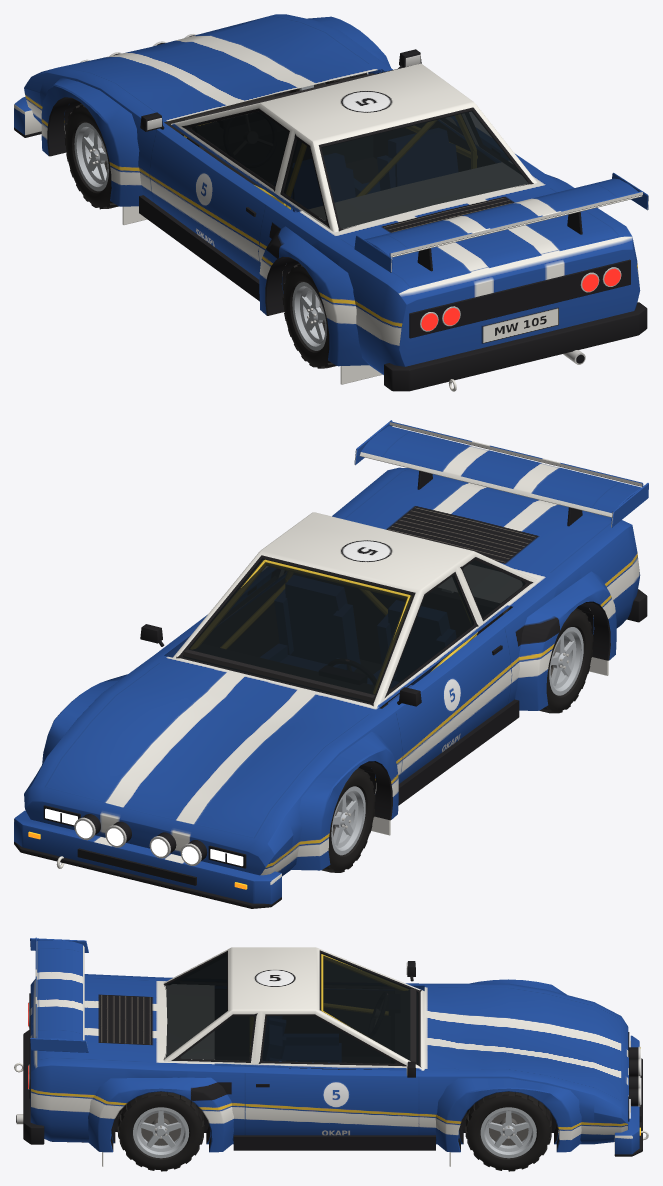
File: CAR-019_Export.fbx
3 renders of one model, top to bottom at view 1: azimuth 30°, elevation 25°; view 2: azimuth 150°, elevation 25°; view 3: azimuth 270°, elevation 25°, orthographic. The views are drawn at different scales.
Parts seen in each view (by area): view 1: CAR-019_Body, CAR-019_Glass, CAR-019_Spoiler, CAR-019_Bumper_Rear, CAR-019_Lights, CAR-019_Trim, CAR-019_Wheel_RL_Tire, CAR-019_Wheel_FL_Tire, CAR-019_Wheel_FL_Rim, CAR-019_Wheel_RL_Rim, CAR-019_Interior, CAR-019_MudFlaps (+2 smaller); view 2: CAR-019_Body, CAR-019_Glass, CAR-019_Spoiler, CAR-019_Bumper_Front, CAR-019_Trim, CAR-019_Lights, CAR-019_Interior, CAR-019_Wheel_RL_Tire, CAR-019_Wheel_FL_Tire, CAR-019_Wheel_FL_Rim, CAR-019_Wheel_RL_Rim, CAR-019_Mirrors; view 3: CAR-019_Body, CAR-019_Glass, CAR-019_Spoiler, CAR-019_Trim, CAR-019_Wheel_FR_Tire, CAR-019_Wheel_RR_Tire, CAR-019_Wheel_FR_Rim, CAR-019_Wheel_RR_Rim, CAR-019_Bumper_Front, CAR-019_Lights, CAR-019_Bumper_Rear, CAR-019_Interior.
Boxes of the visible parts, <box> form: CAR-019_Body: <box>24,14,640,374</box>; CAR-019_Glass: <box>191,111,528,228</box>; CAR-019_Spoiler: <box>354,172,648,272</box>; CAR-019_Bumper_Rear: <box>384,302,647,391</box>; CAR-019_Lights: <box>79,34,630,338</box>; CAR-019_Trim: <box>139,195,585,391</box>; CAR-019_Wheel_RL_Tire: <box>282,263,336,368</box>; CAR-019_Wheel_FL_Tire: <box>64,104,118,209</box>; CAR-019_Wheel_FL_Rim: <box>74,122,108,191</box>; CAR-019_Wheel_RL_Rim: <box>292,282,326,350</box>; CAR-019_Interior: <box>176,73,374,212</box>; CAR-019_MudFlaps: <box>122,206,382,384</box>; CAR-019_Body: <box>24,467,640,876</box>; CAR-019_Glass: <box>183,559,524,702</box>; CAR-019_Spoiler: <box>354,420,648,527</box>; CAR-019_Bumper_Front: <box>14,810,281,908</box>; CAR-019_Trim: <box>56,645,519,885</box>; CAR-019_Lights: <box>28,805,247,889</box>; CAR-019_Interior: <box>176,559,503,708</box>; CAR-019_Wheel_RL_Tire: <box>539,608,593,713</box>; CAR-019_Wheel_FL_Tire: <box>322,768,375,872</box>; CAR-019_Wheel_FL_Rim: <box>331,786,365,855</box>; CAR-019_Wheel_RL_Rim: <box>549,627,583,695</box>; CAR-019_Mirrors: <box>140,624,421,706</box>; CAR-019_Body: <box>30,947,628,1152</box>; CAR-019_Glass: <box>166,953,418,1064</box>; CAR-019_Spoiler: <box>30,937,88,1052</box>; CAR-019_Trim: <box>14,1062,648,1150</box>; CAR-019_Wheel_FR_Tire: <box>465,1091,551,1171</box>; CAR-019_Wheel_RR_Tire: <box>117,1091,204,1171</box>; CAR-019_Wheel_FR_Rim: <box>480,1107,536,1158</box>; CAR-019_Wheel_RR_Rim: <box>133,1107,189,1158</box>; CAR-019_Bumper_Front: <box>614,1035,642,1156</box>; CAR-019_Lights: <box>28,993,641,1135</box>; CAR-019_Bumper_Rear: <box>23,1030,44,1144</box>; CAR-019_Interior: <box>215,954,421,1064</box>.
Bounding box in the file's own units: 1.91 × 1.17 × 4.68.
17 materials, 2 textured.
